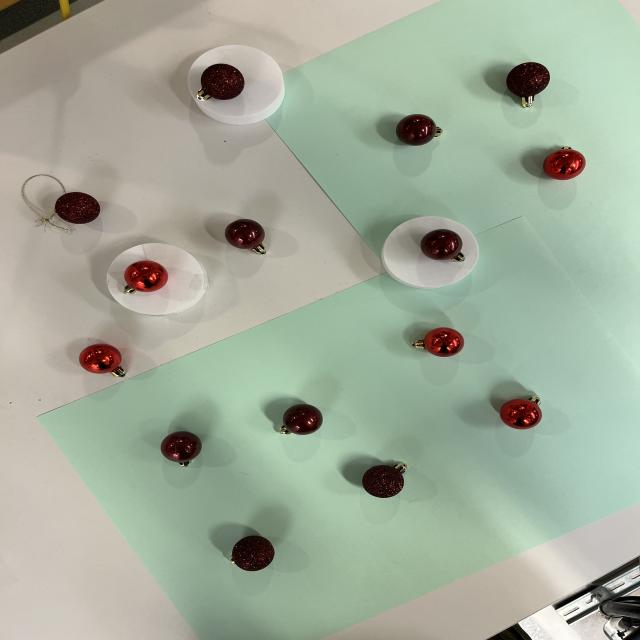glitter-bauble: (498, 58, 562, 111), (39, 185, 108, 232), (185, 58, 252, 106), (352, 453, 412, 503), (217, 533, 287, 575), (506, 62, 551, 108), (197, 64, 245, 101), (230, 535, 275, 572), (362, 463, 407, 498), (54, 192, 101, 224)
glossy-bauble: (66, 338, 141, 384), (490, 386, 547, 430), (402, 323, 465, 360), (539, 142, 589, 182), (118, 260, 171, 296), (411, 327, 464, 358), (79, 343, 126, 377), (123, 261, 168, 294), (543, 146, 586, 180), (500, 396, 542, 430)
wine-red-bauble: (415, 225, 471, 268), (220, 216, 273, 257), (156, 428, 206, 469), (390, 112, 445, 148), (275, 401, 326, 439), (396, 114, 444, 146), (225, 219, 267, 255), (160, 431, 202, 467), (420, 229, 465, 262), (279, 404, 323, 435)
